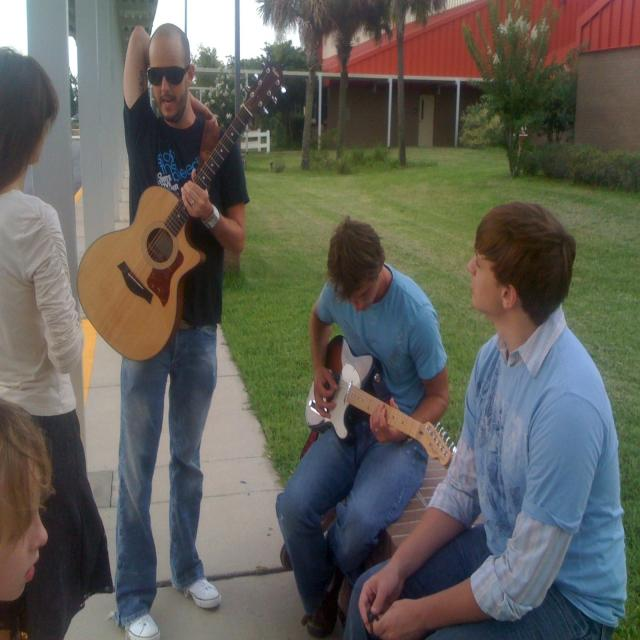guitar: (76, 62, 290, 366), (303, 331, 456, 472)
